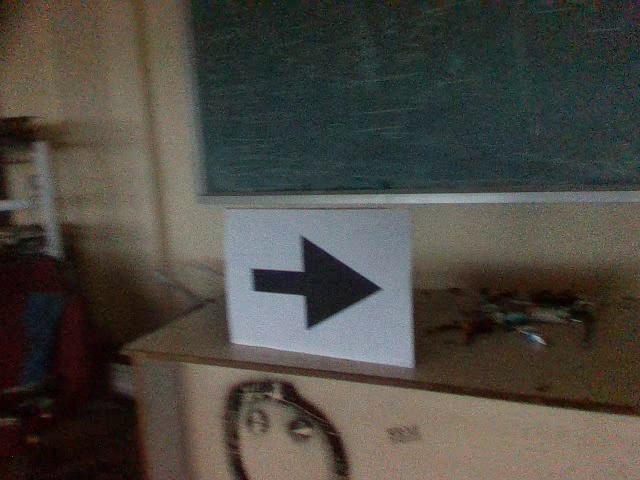Right: (237, 231, 387, 333)
